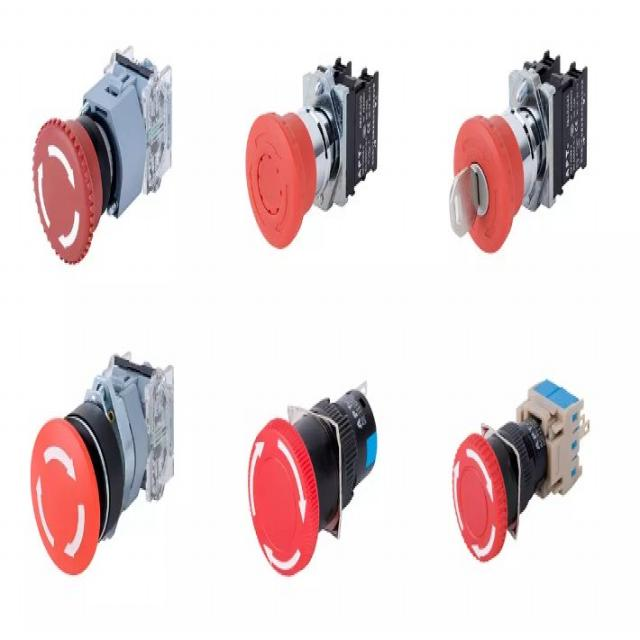safety switch: (28, 400, 127, 573), (243, 413, 341, 575), (450, 106, 538, 258), (245, 105, 331, 251), (31, 114, 112, 267), (450, 431, 518, 562)
